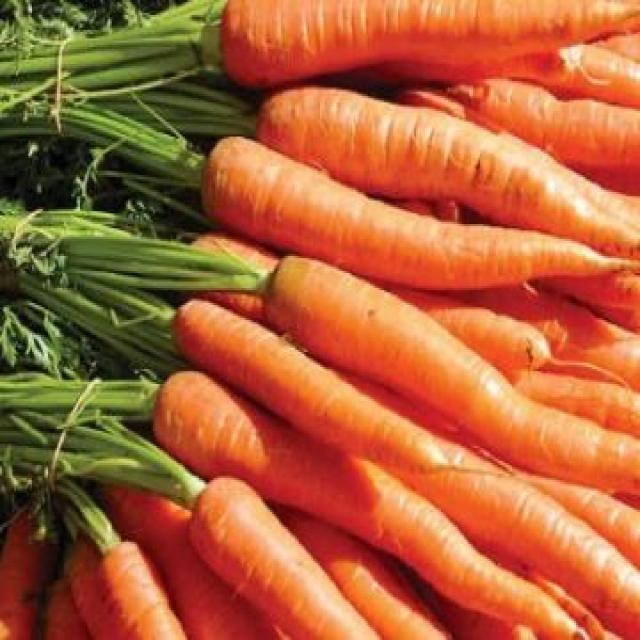Fresh_Carrot: (10, 234, 640, 502), (11, 291, 562, 473)
